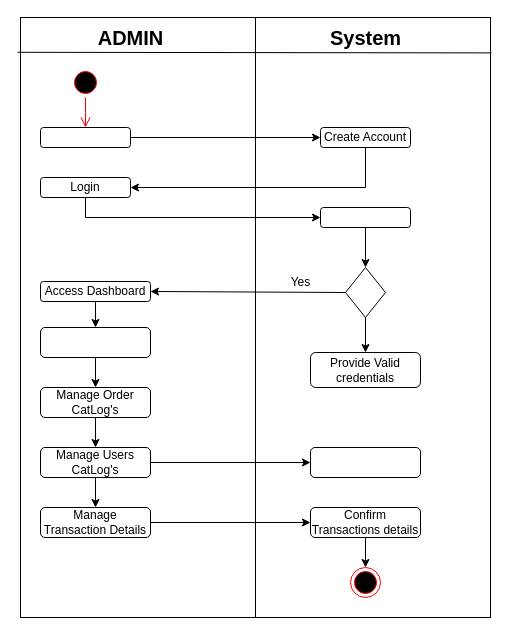
This 510x636 diagram has some shape labels left out. Each missing label, with the centre of its shape:
"Authentication" goes at [365,217].
"CatLog's Changed" goes at [365,462].
"Manage Products CatLog's" goes at [95,342].
"Register" goes at [85,137].
